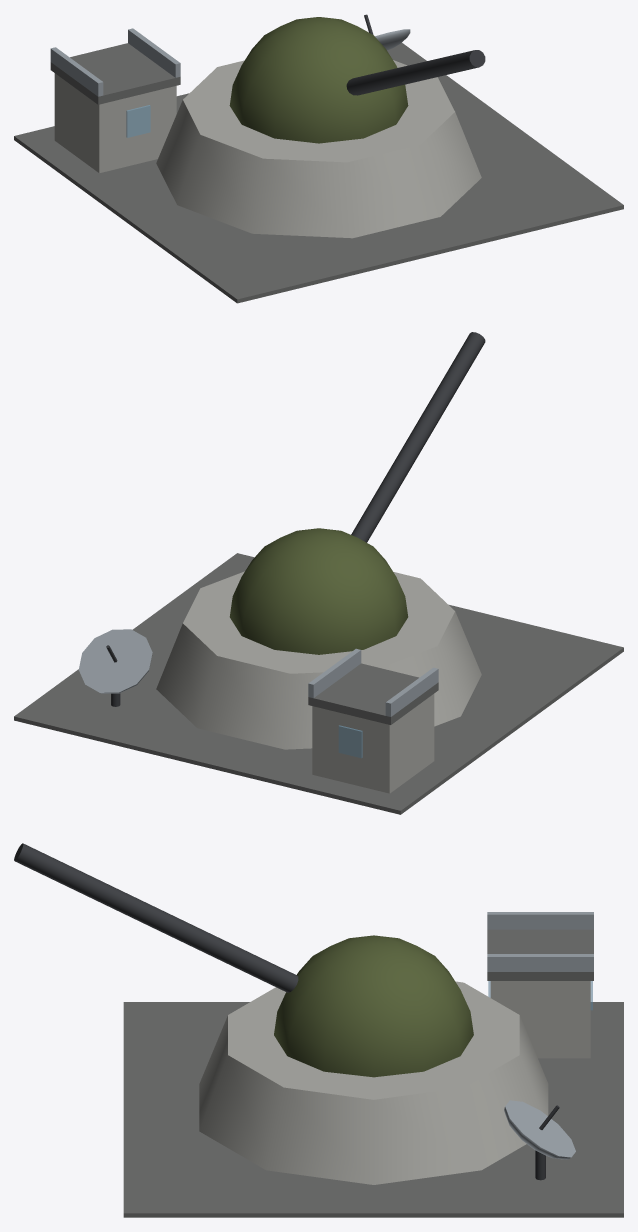
File: bld_special_planetary_defense_a07.glb
3 views of the same model, one above another, from view 1: azimuth 30°, elevation 25°; view 2: azimuth 150°, elevation 25°; view 3: azimuth 270°, elevation 25° (orthographic). The views are drawn at different scales.
Parts seen in each view (by area): view 1: body, turret, antenna; view 2: body, turret, antenna; view 3: body, turret, antenna.
Boxes of the visible parts, x1=… form: body: x1=14, y1=28, x2=623, y2=303; turret: x1=229, y1=17, x2=485, y2=143; antenna: x1=364, y1=14, x2=410, y2=50; body: x1=14, y1=553, x2=623, y2=814; turret: x1=229, y1=332, x2=485, y2=654; antenna: x1=78, y1=629, x2=152, y2=706; body: x1=123, y1=912, x2=623, y2=1217; turret: x1=14, y1=843, x2=473, y2=1077; antenna: x1=504, y1=1100, x2=575, y2=1180.
Size of what is drawn, in the model's own units: 15 by 8.87 by 18.29.
